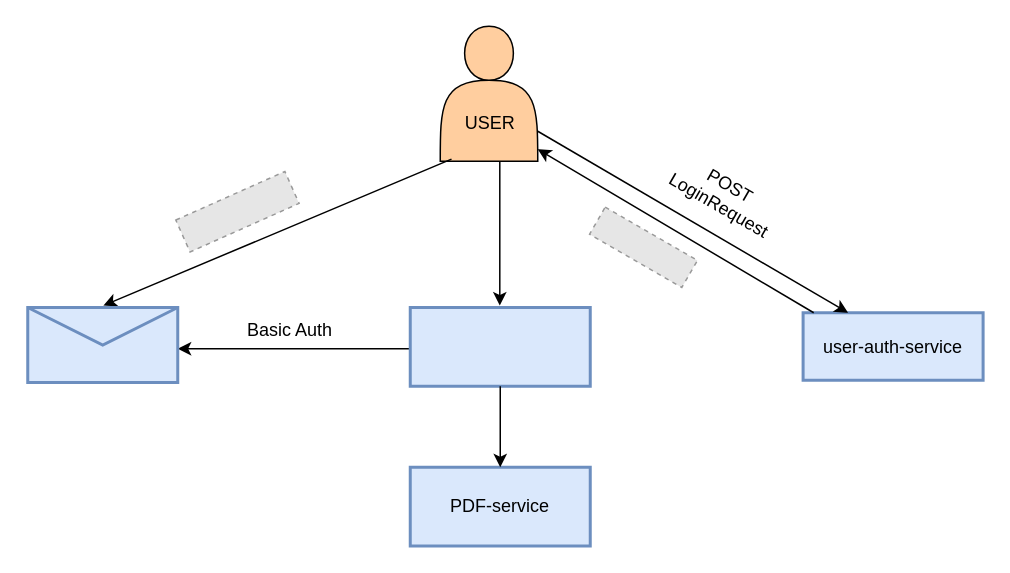
This 1010x573 diagram has some shape labels left out. Grey dashed boxes stand in for pictures. Each missing label, with the centre of its shape:
"mail-service" belongs at pixel 102 344.
"order-service" belongs at pixel 499 346.
